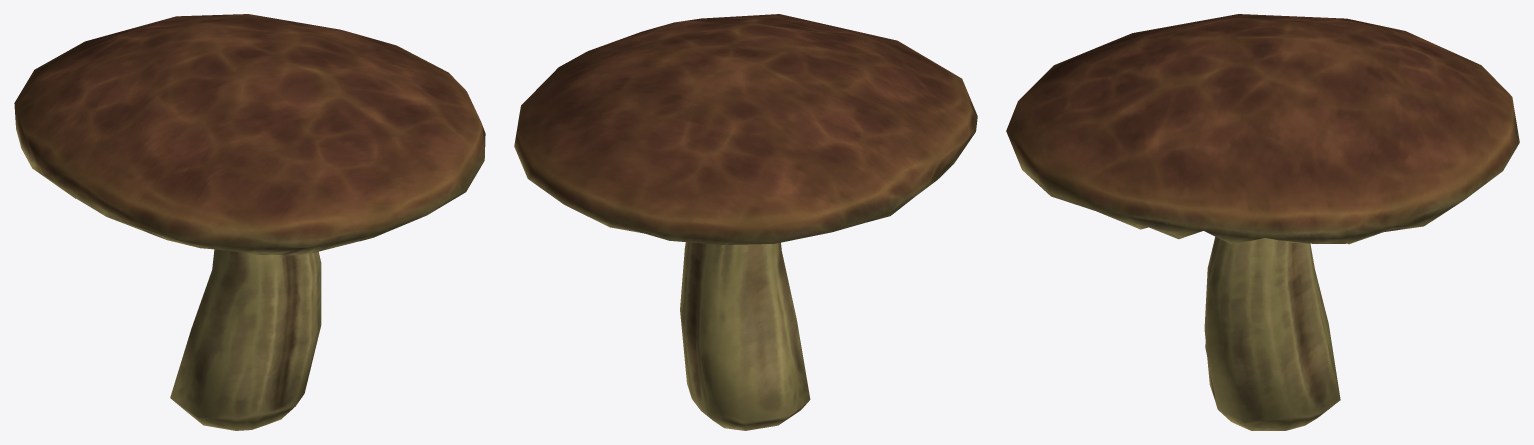
File: SM_Mushroom.fbx
The picture shows the model from 3 angles, left to right: view 1: azimuth 30°, elevation 25°; view 2: azimuth 150°, elevation 25°; view 3: azimuth 270°, elevation 25°; orthographic projection. The views are drawn at different scales.
Parts seen in each view (by area): view 1: SM_Mushroom_LOD0; view 2: SM_Mushroom_LOD0; view 3: SM_Mushroom_LOD0.
Part boxes in pixels (x1,y1,x2,y2): SM_Mushroom_LOD0: [14, 14, 485, 430]; SM_Mushroom_LOD0: [514, 14, 977, 430]; SM_Mushroom_LOD0: [1006, 14, 1519, 430].
Size of the model in its own units: 24.89 by 27.59 by 21.92.
